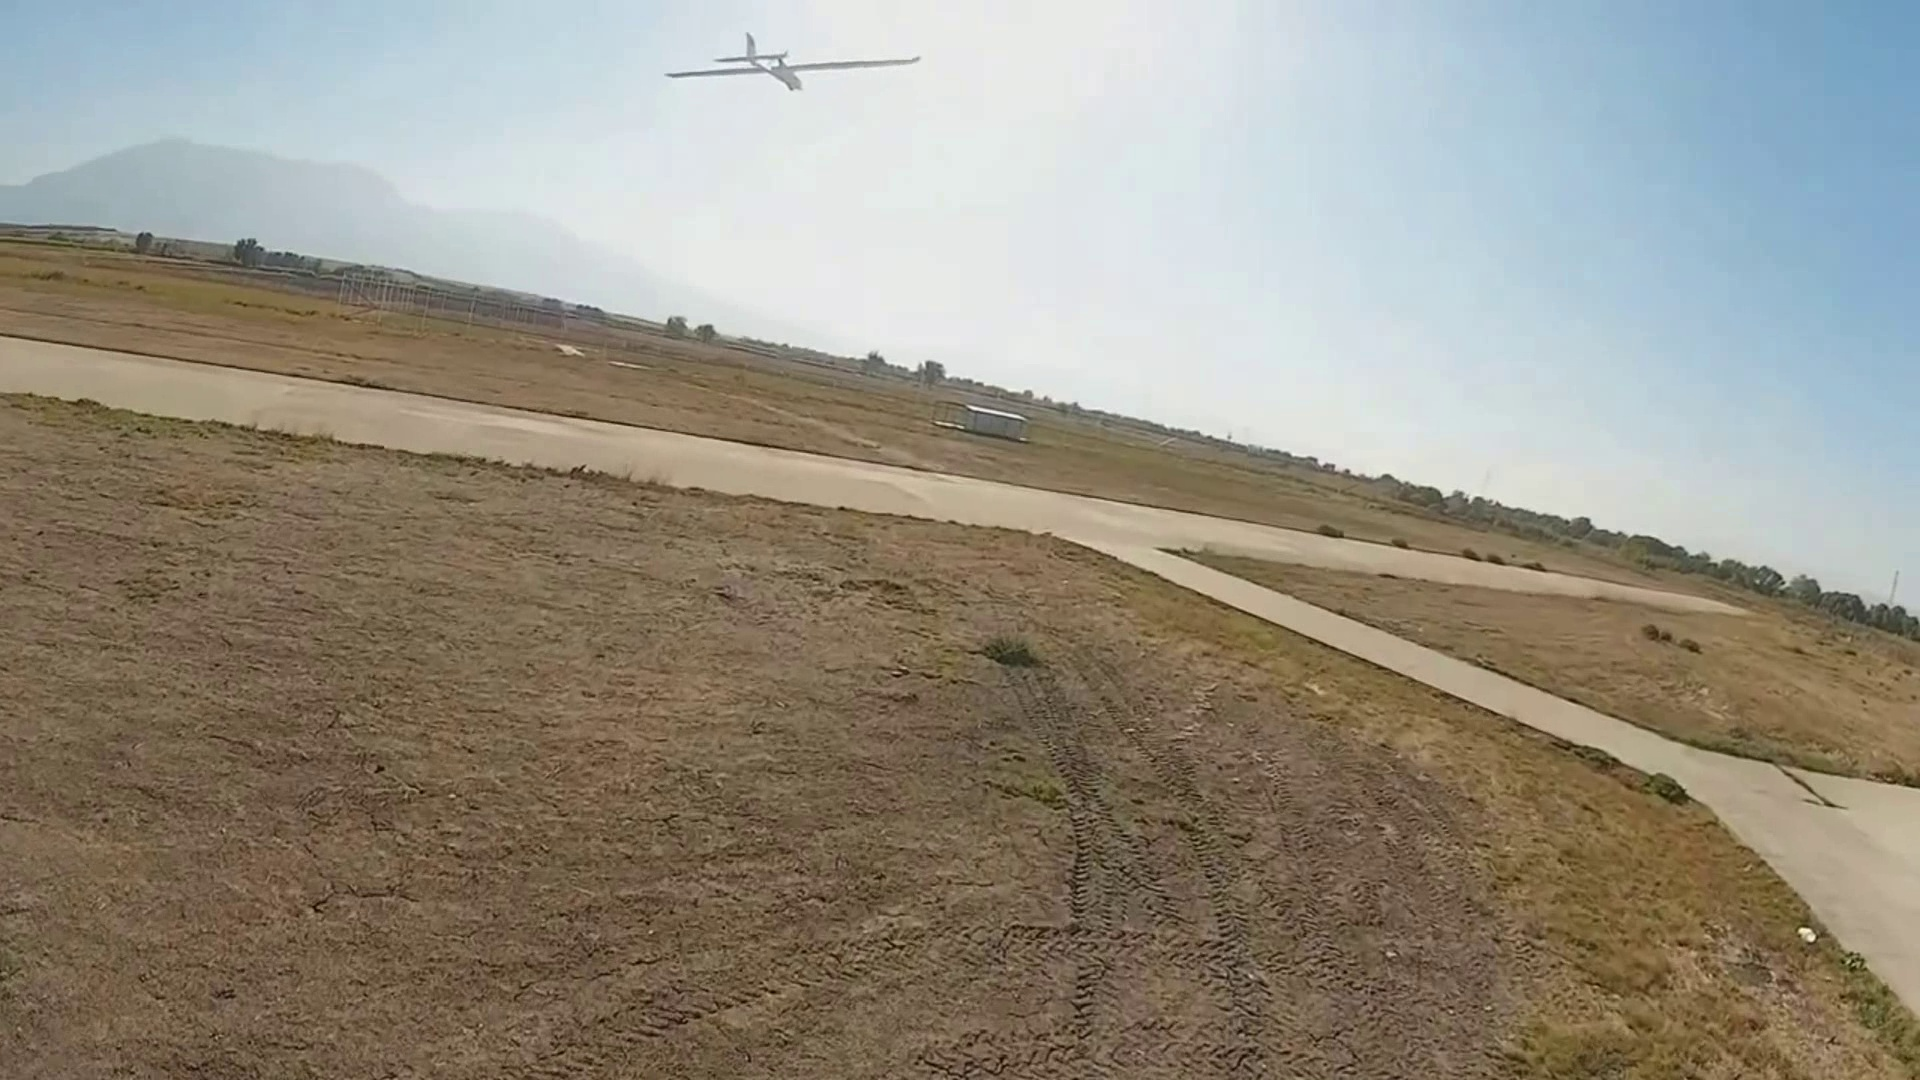airplane: (663, 30, 923, 91)
